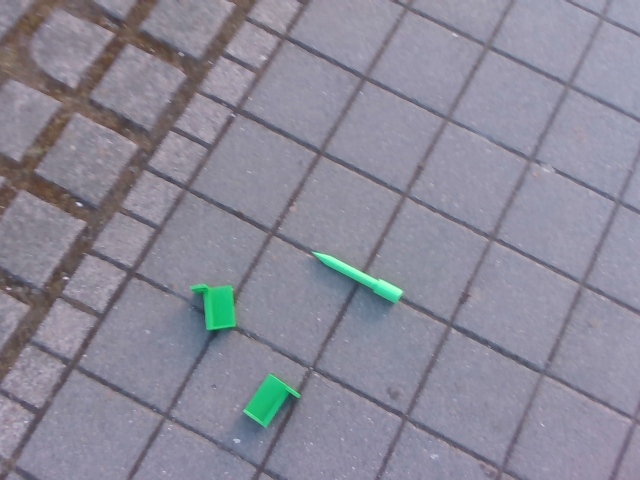Probe: (307, 242, 406, 307)
